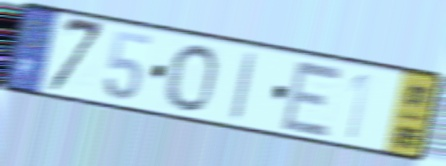1: (346, 72, 373, 141)
5: (102, 27, 154, 103)
7: (44, 14, 108, 96)
E: (278, 56, 347, 141)
I: (227, 48, 260, 124)
O: (163, 42, 220, 114)
